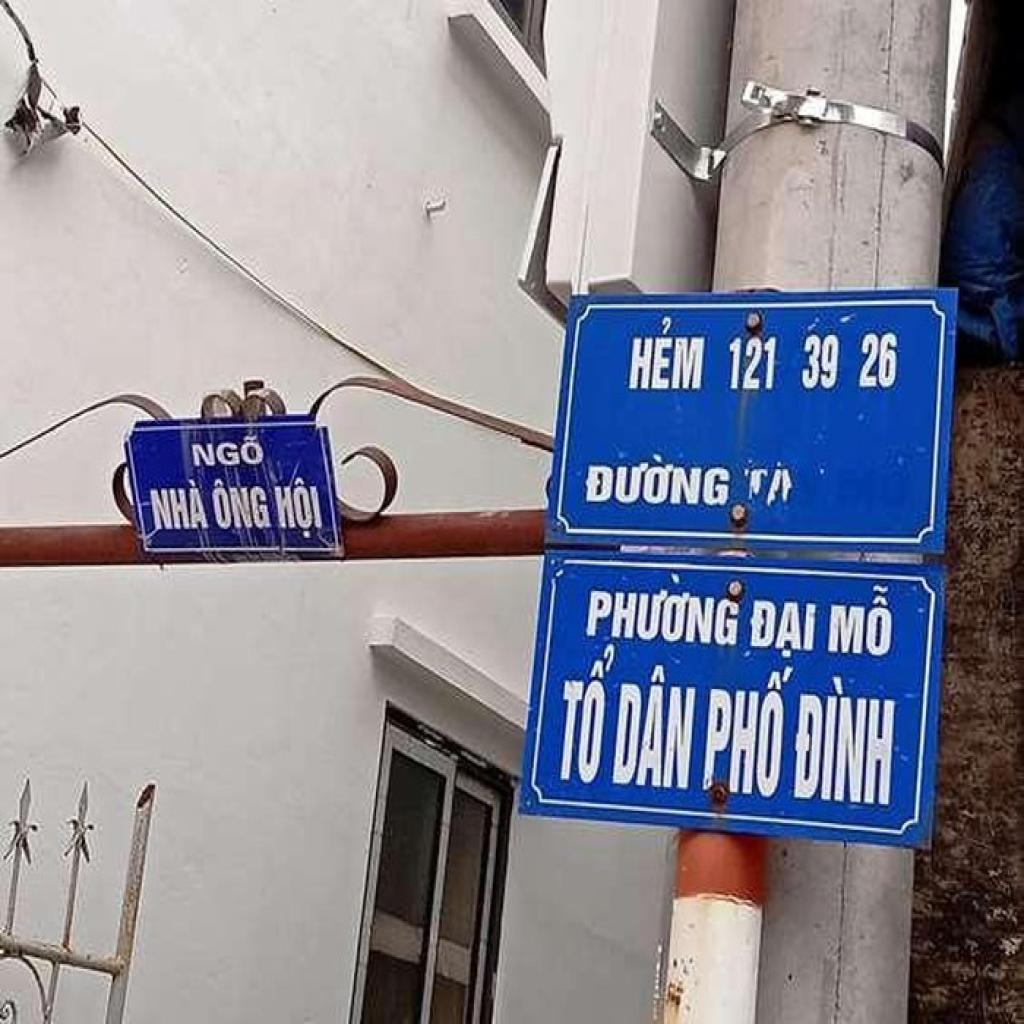text: (696, 656, 800, 806), (578, 564, 746, 651), (606, 660, 705, 799), (552, 641, 620, 792), (581, 452, 743, 515), (622, 309, 712, 395), (824, 576, 898, 668), (745, 594, 822, 662), (269, 474, 331, 546), (143, 476, 215, 536), (205, 474, 275, 533), (721, 334, 781, 394), (853, 332, 907, 398), (186, 430, 270, 470), (797, 331, 843, 397)
